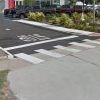crosswalk: (12, 38, 99, 63)
